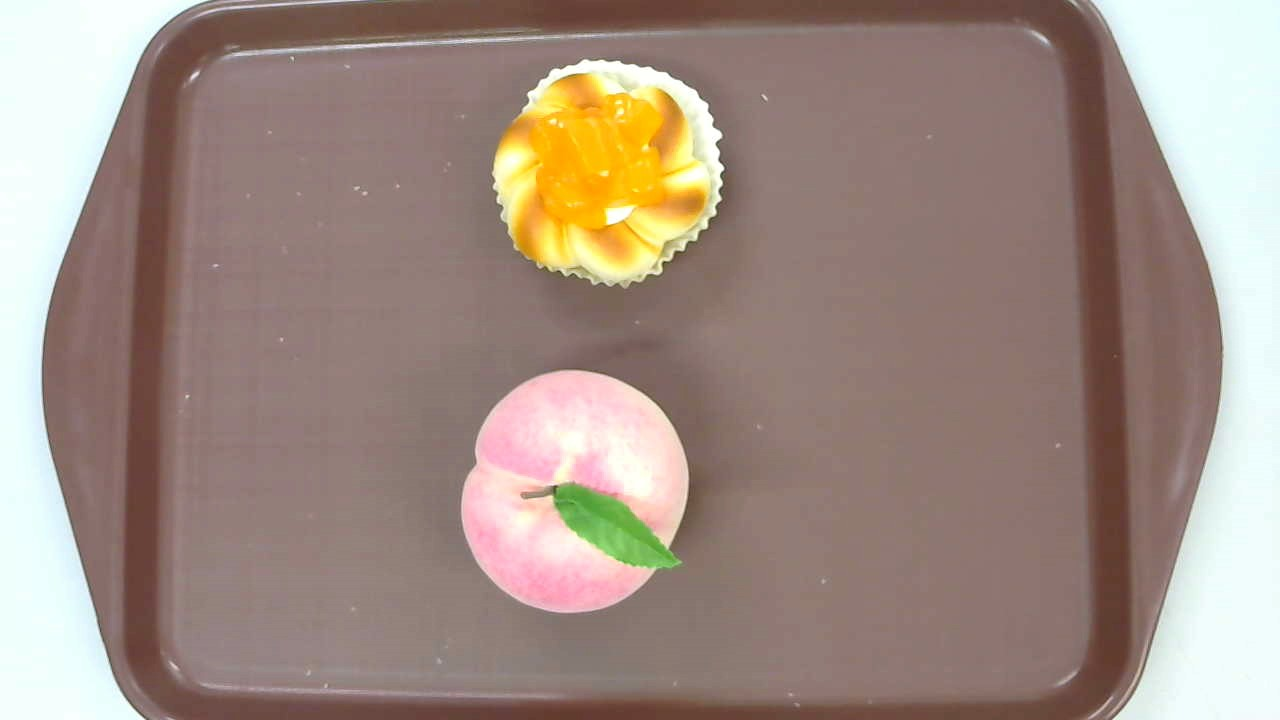mango tart: (491, 59, 726, 291)
peach: (460, 370, 690, 614)
